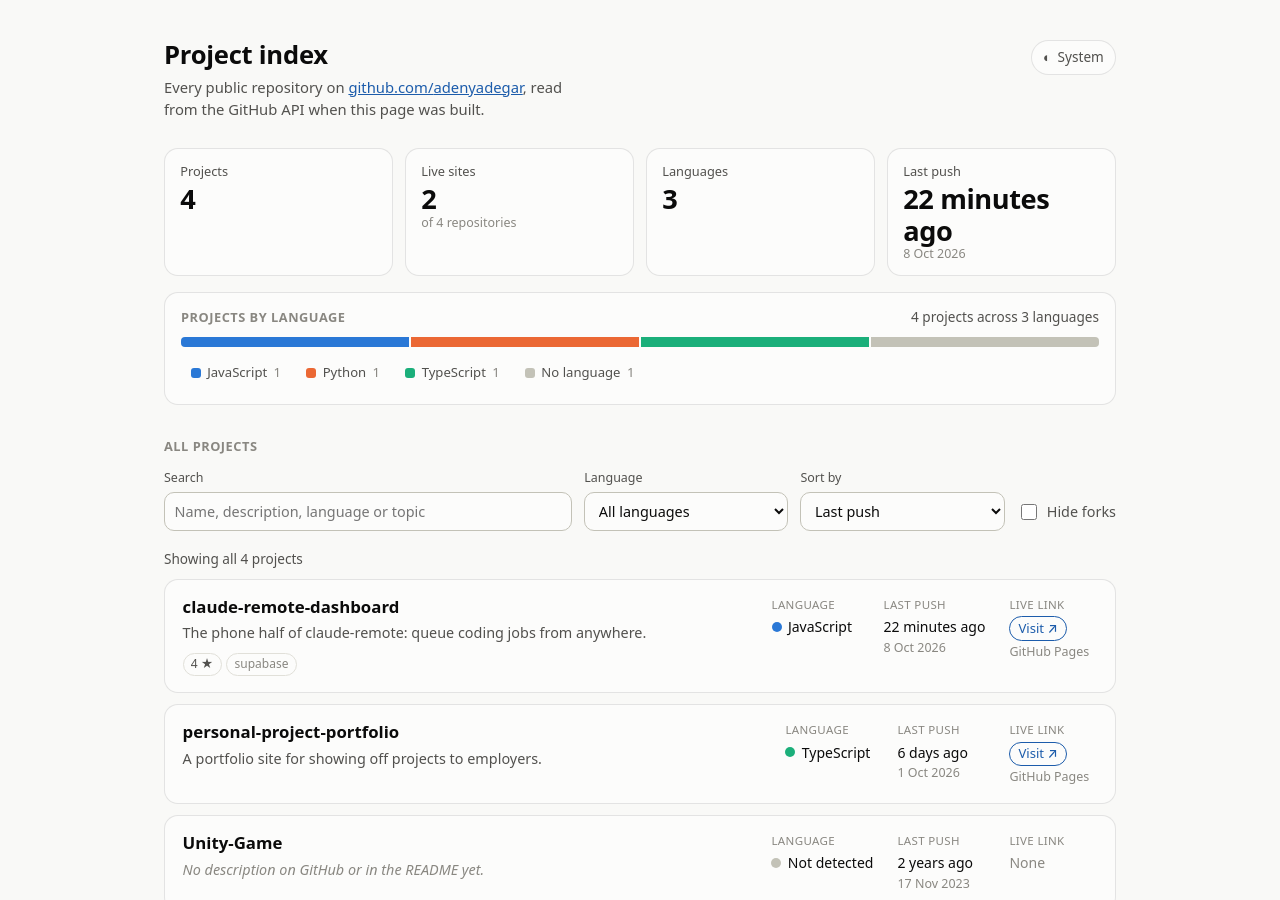
Scenario: the index page › filters by search across name, description and topics
The image size is (1280, 900).
In the search field labelled "Search": (368, 511) [164, 492, 572, 531], type "portfolio"
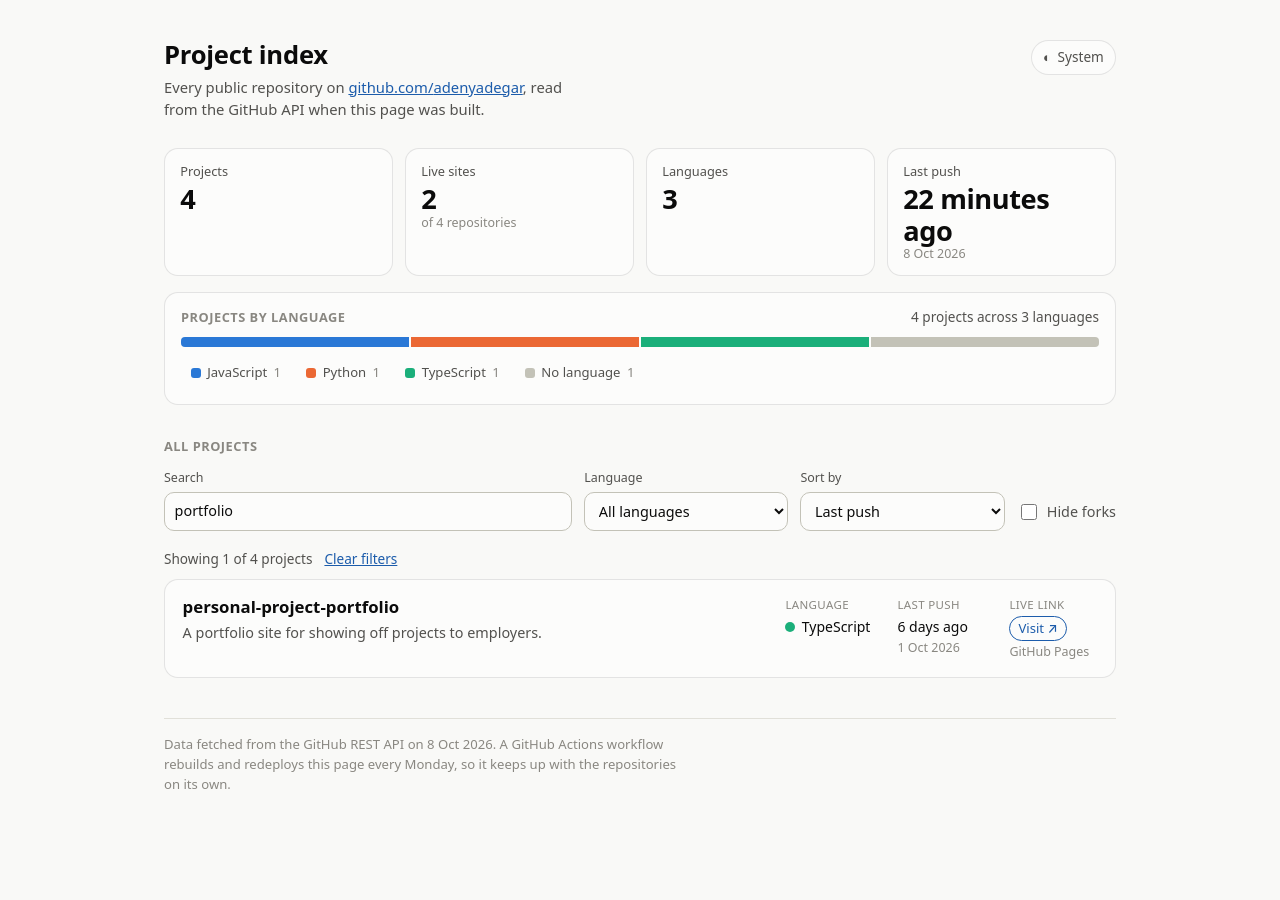
Expected: the text "Showing 1 of 4 projects" is shown, [164, 549, 312, 569]
Replace the text in the search field labelled "Search" with "supabase": (368, 511) [164, 492, 572, 531]
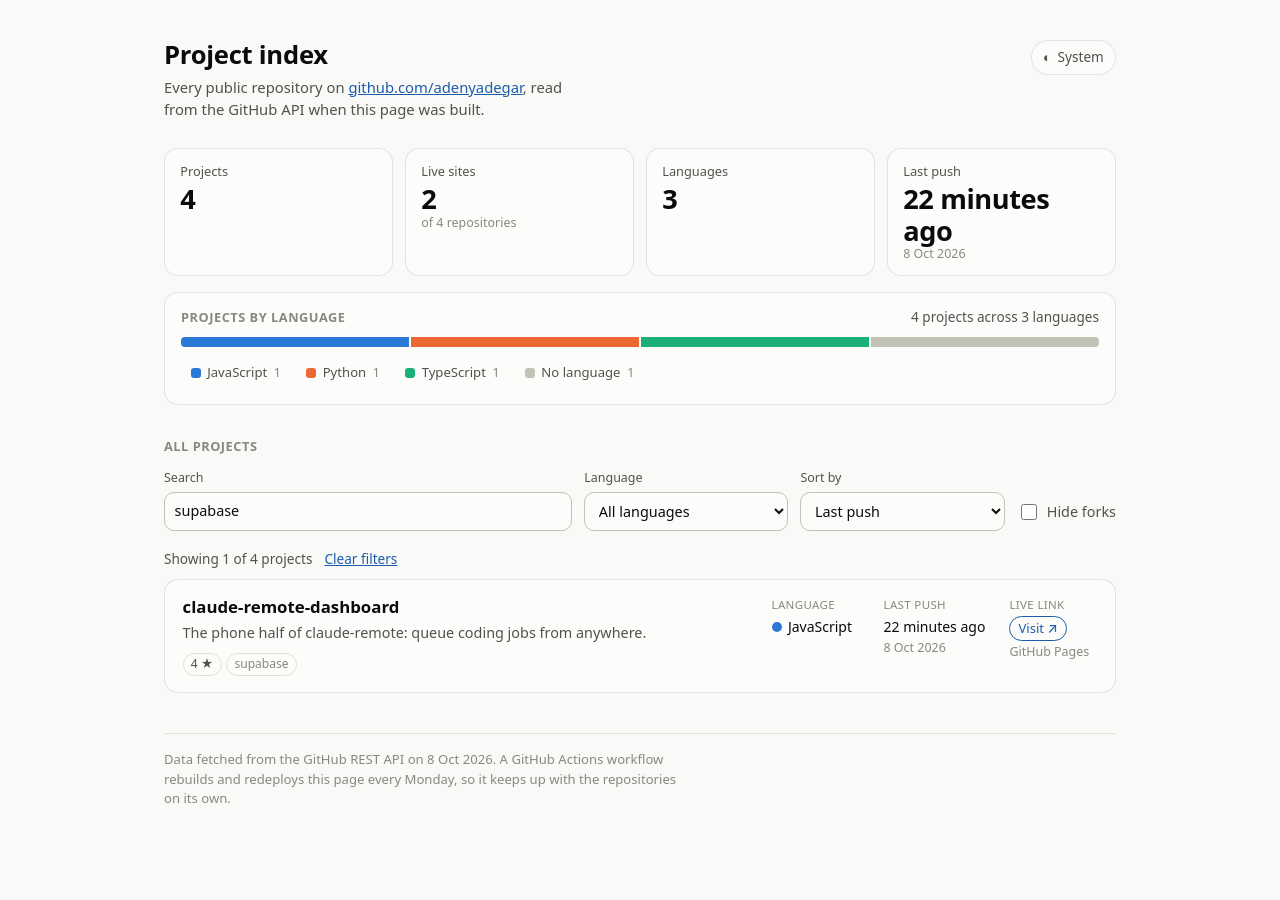
Replace the text in the search field labelled "Search" with "nothing here": (368, 511) [164, 492, 572, 531]
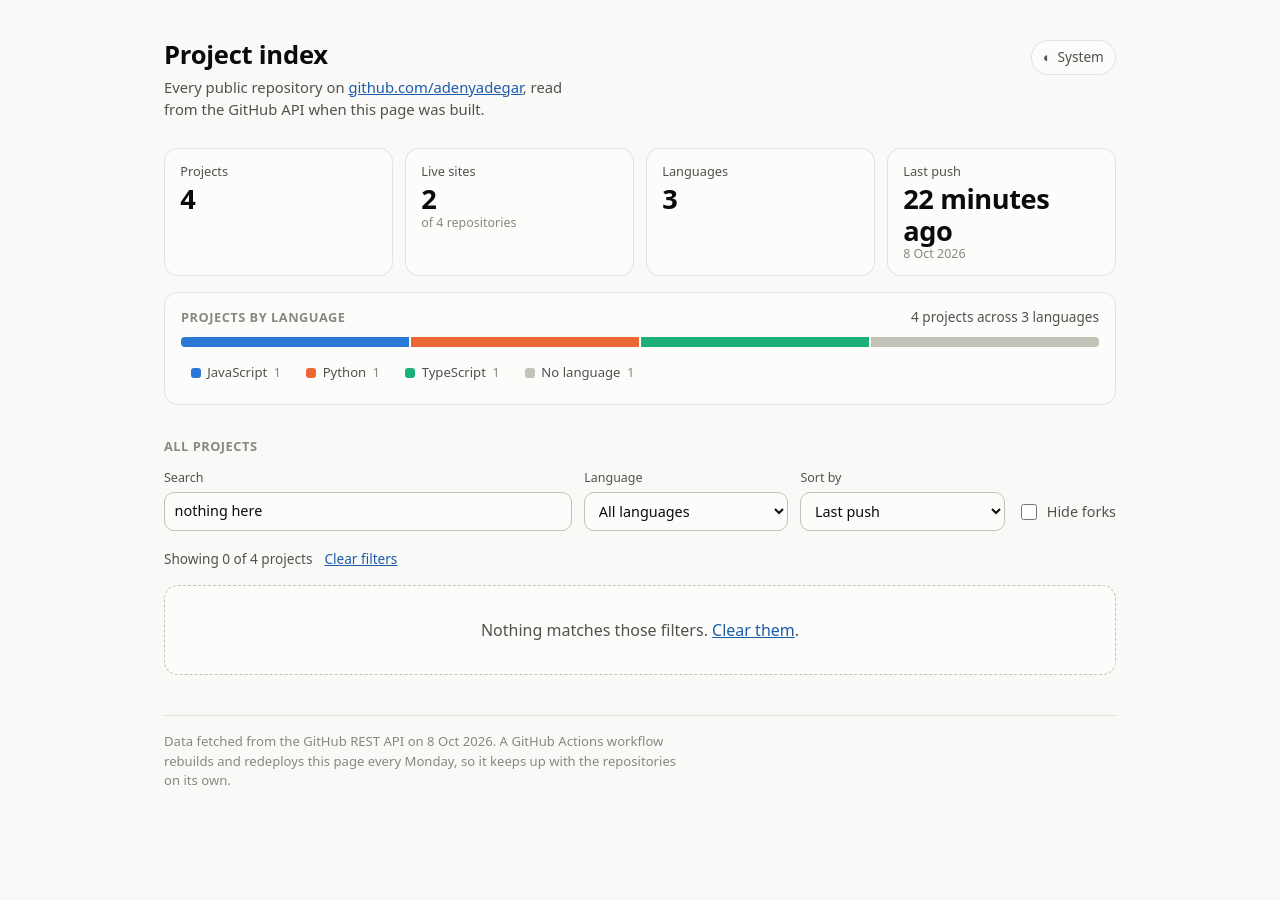
Expected: the text "Nothing matches those filters. Clear them ." is shown, [164, 585, 1116, 675]
